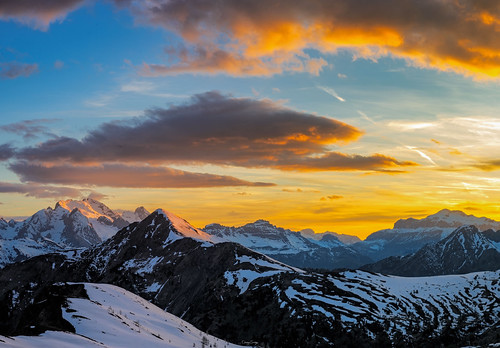mountain: (114, 211, 373, 295), (1, 188, 149, 235), (197, 210, 353, 245), (364, 202, 497, 240)
sky: (1, 1, 497, 208)
